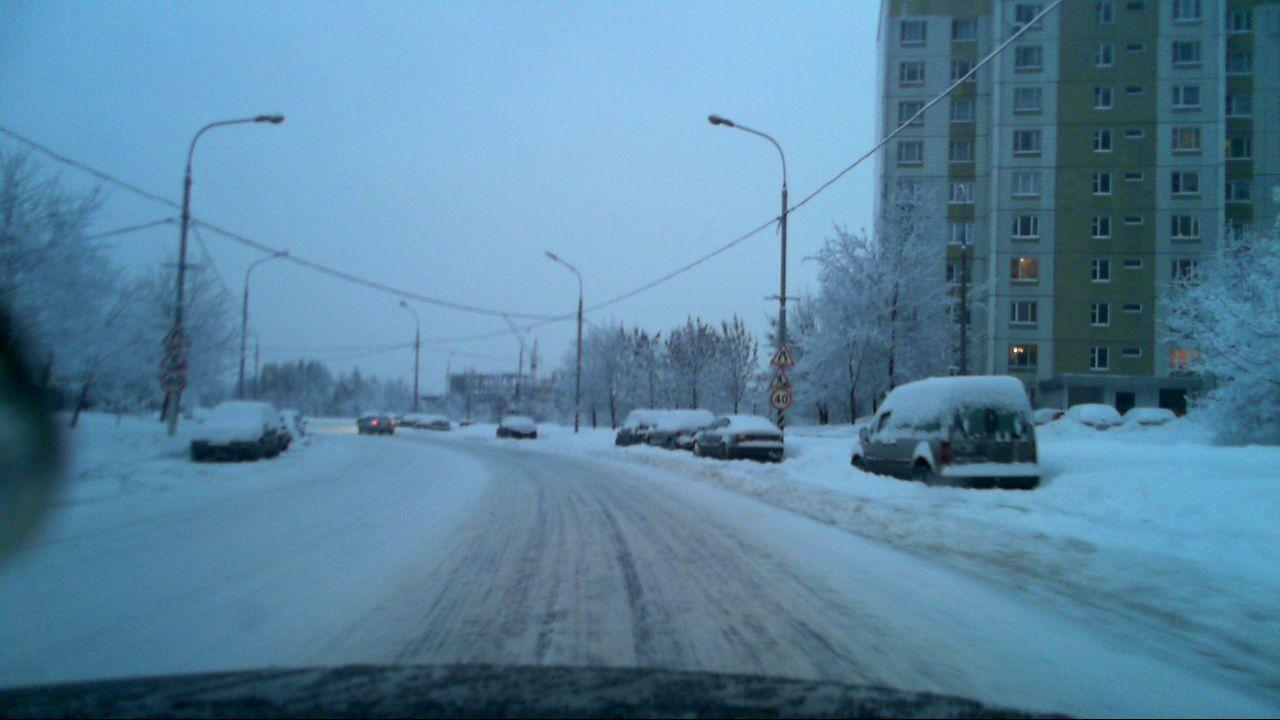1_20_1: (768, 344, 796, 365)
1_25: (768, 365, 791, 390)
3_24: (770, 389, 791, 408)
